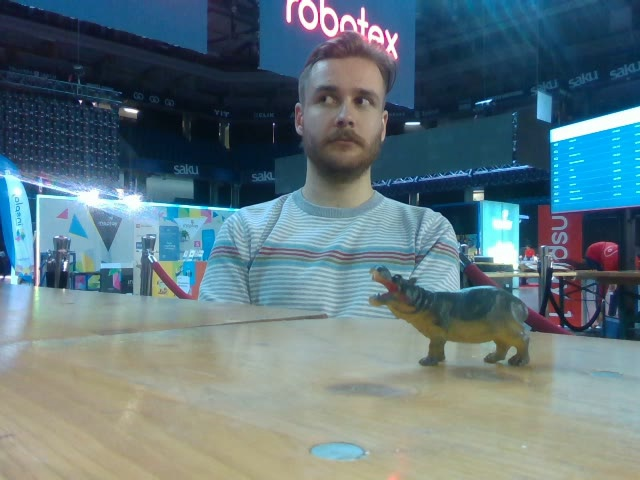toy: (360, 266, 531, 371)
